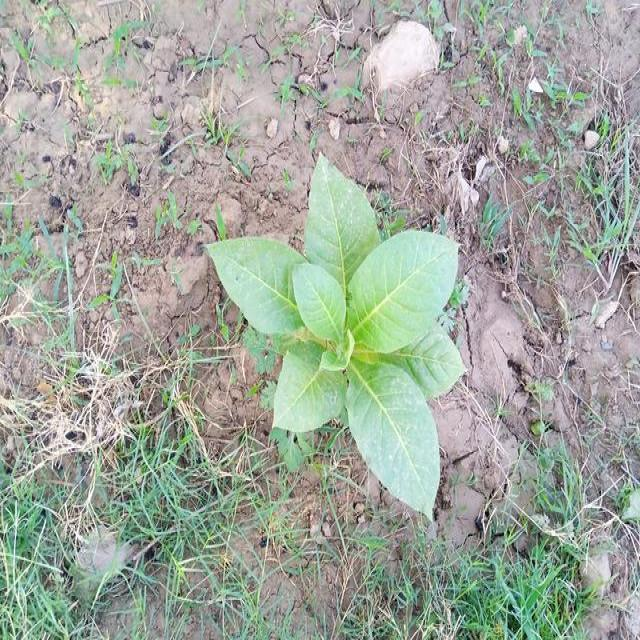crop: (233, 164, 478, 502)
